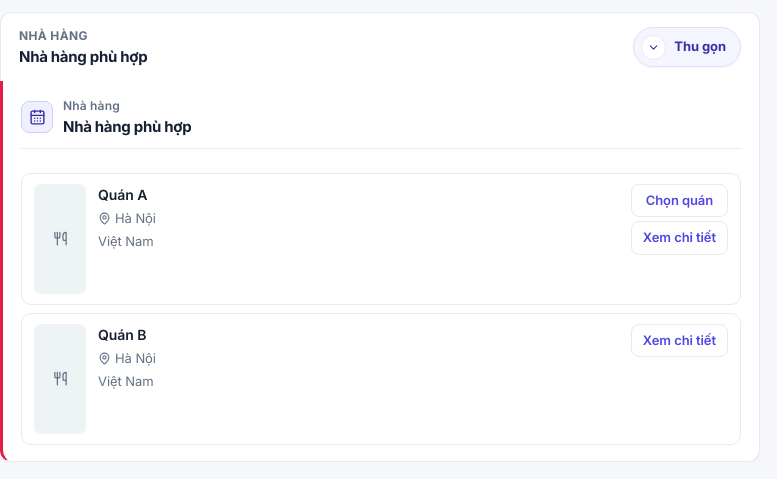
Collapsible agent cards in the workflow › wraps service cards with the reusable toggle and a collapsed summary
Expected: the button "Chọn quán" is shown, [631,184,728,217]
Expected: the text "2 quán phù hợp" is not shown
Step 1. Click the button "Thu gọn" → click(687, 47), box [633,27,741,67]
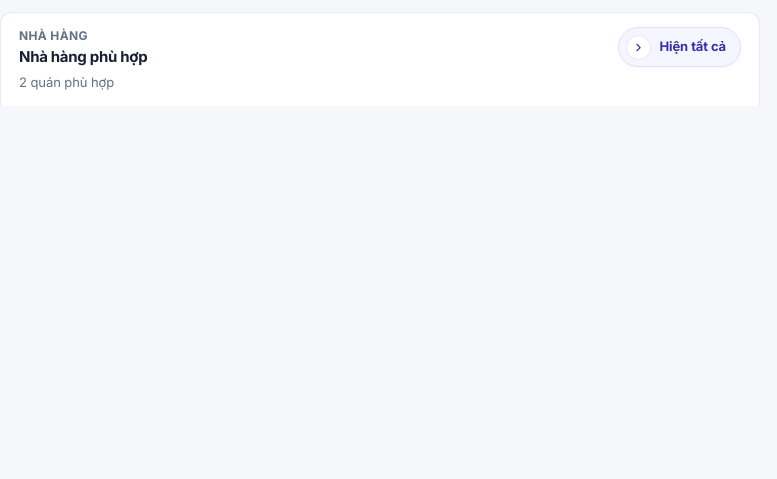
Expected: the button "Hiện tất cả" is shown, [618,27,741,67]
Expected: the text "2 quán phù hợp" is shown, [19,74,114,90]
